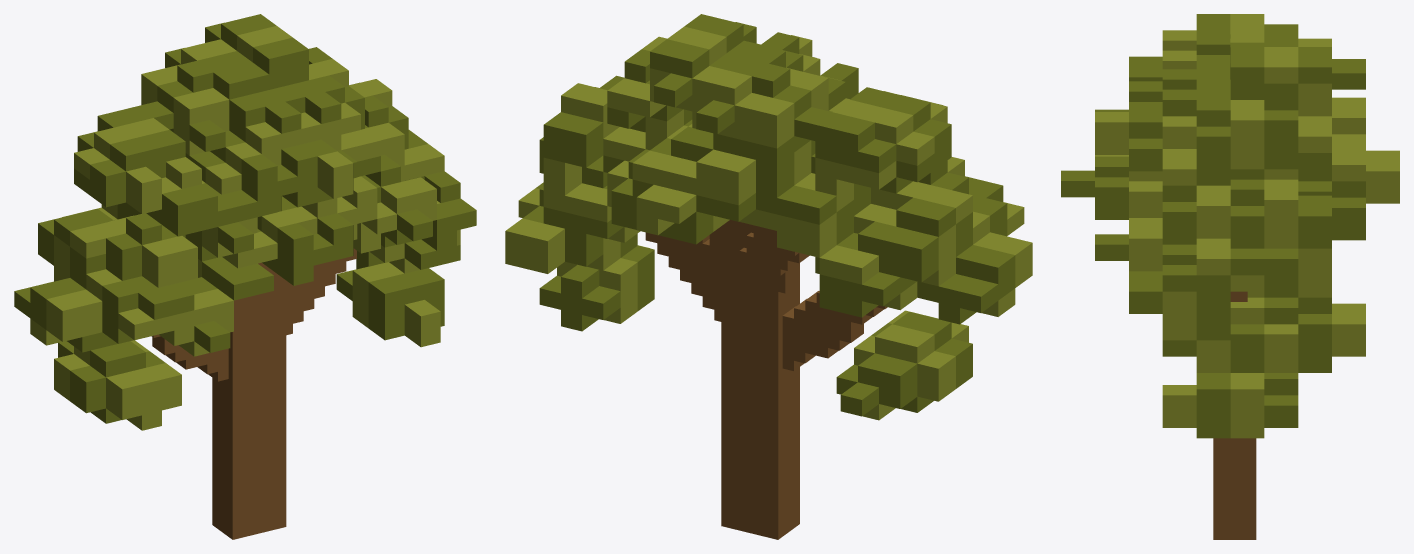
The model's file is SM_DC_Tree_Half.fbx.
3 renders of one model, left to right at view 1: azimuth 30°, elevation 25°; view 2: azimuth 150°, elevation 25°; view 3: azimuth 270°, elevation 25°, orthographic. The views are drawn at different scales.
Parts seen in each view (by area): view 1: SM_DC_Tree_Half; view 2: SM_DC_Tree_Half; view 3: SM_DC_Tree_Half.
Boxes of the visible parts, x1,y1,x2,y2 form: SM_DC_Tree_Half: (14, 14, 476, 539); SM_DC_Tree_Half: (505, 14, 1032, 539); SM_DC_Tree_Half: (1061, 14, 1399, 539).
Bounding box in the file's own units: 3.3 × 2.2 × 3.5.
